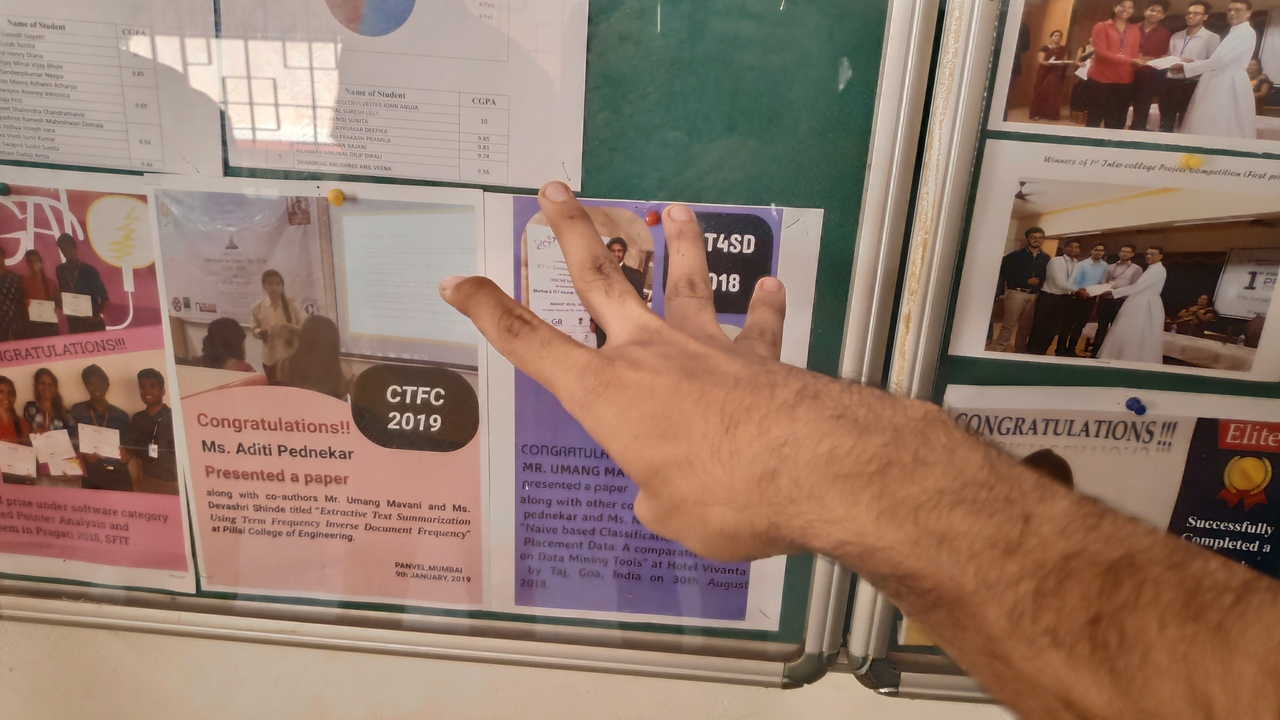fingertip: (524, 170, 590, 220), (430, 271, 475, 304), (659, 201, 702, 234), (753, 273, 789, 304)
